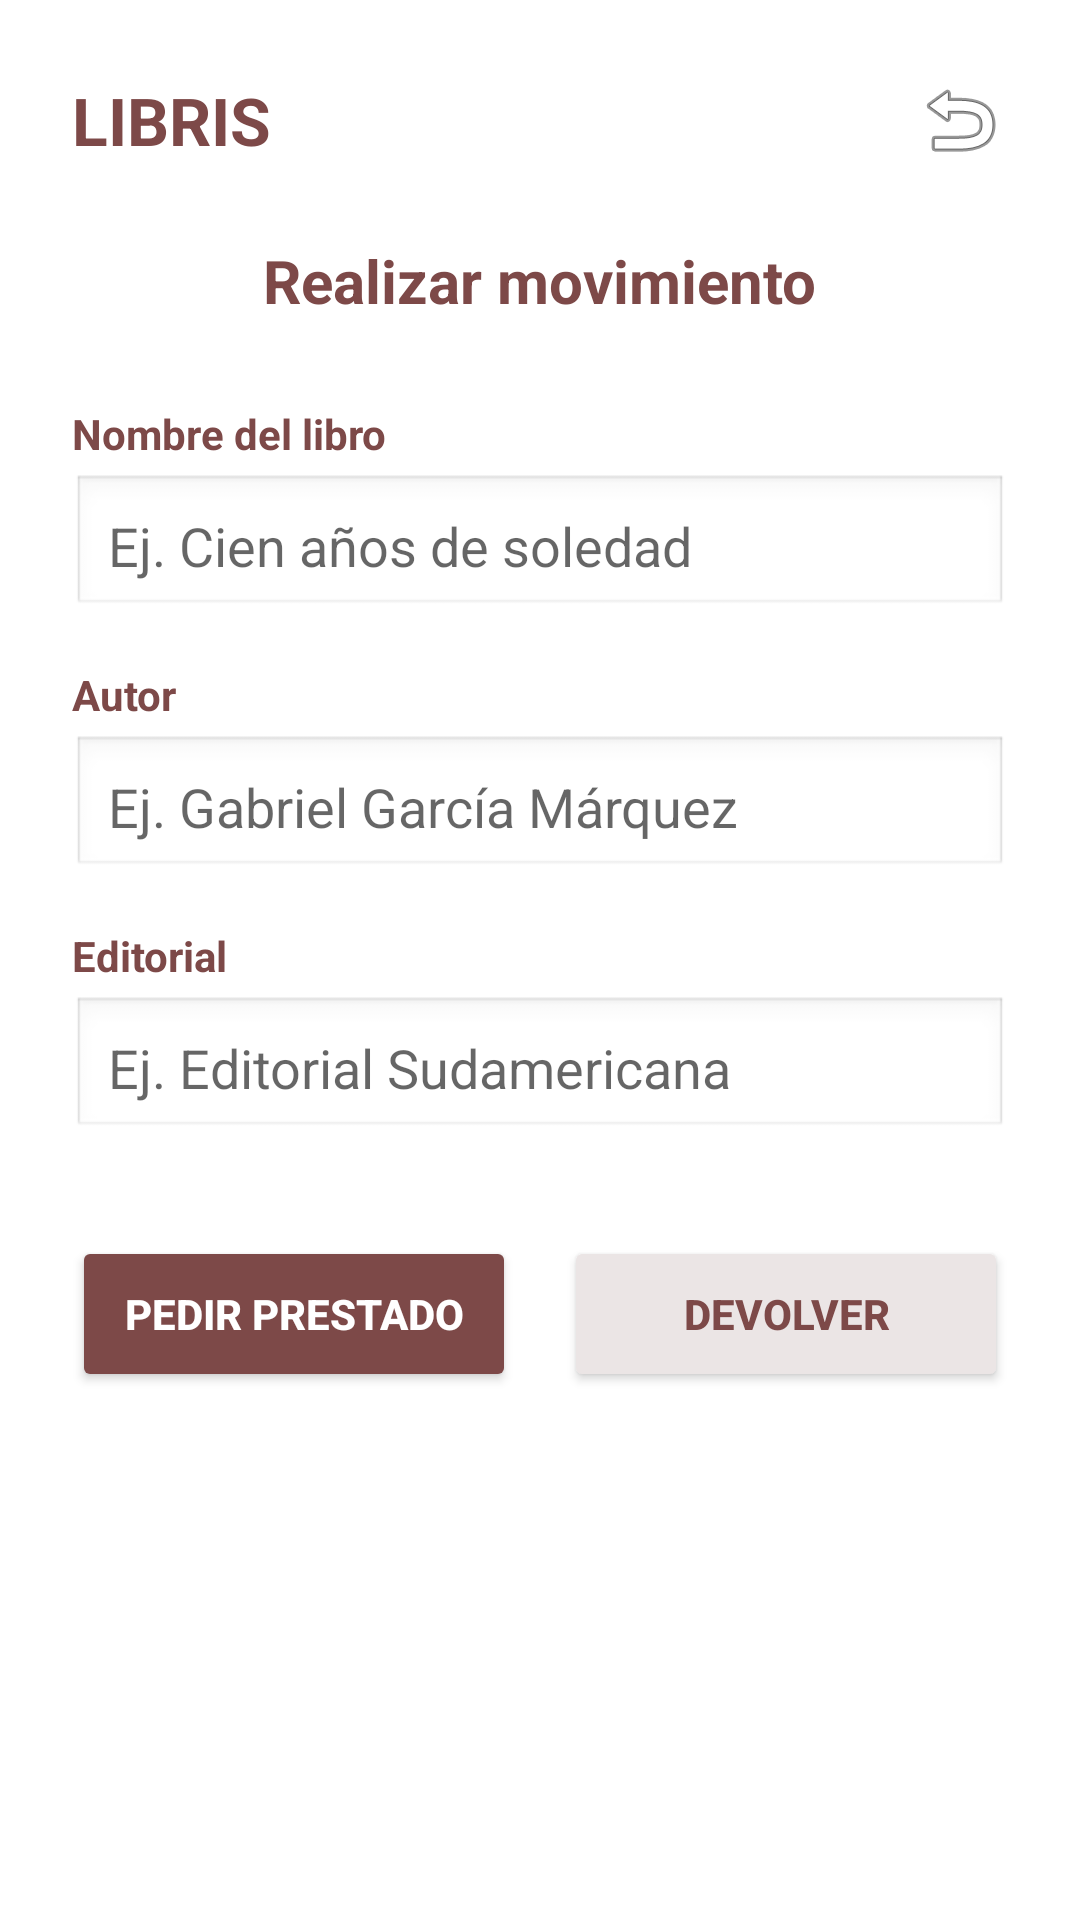

Screen size 1080x1920. Icon name, then its box in pixels as (left=x1, top=y1, right=x2, bottom=y2):
Regresar: (left=927, top=89, right=996, bottom=152)
